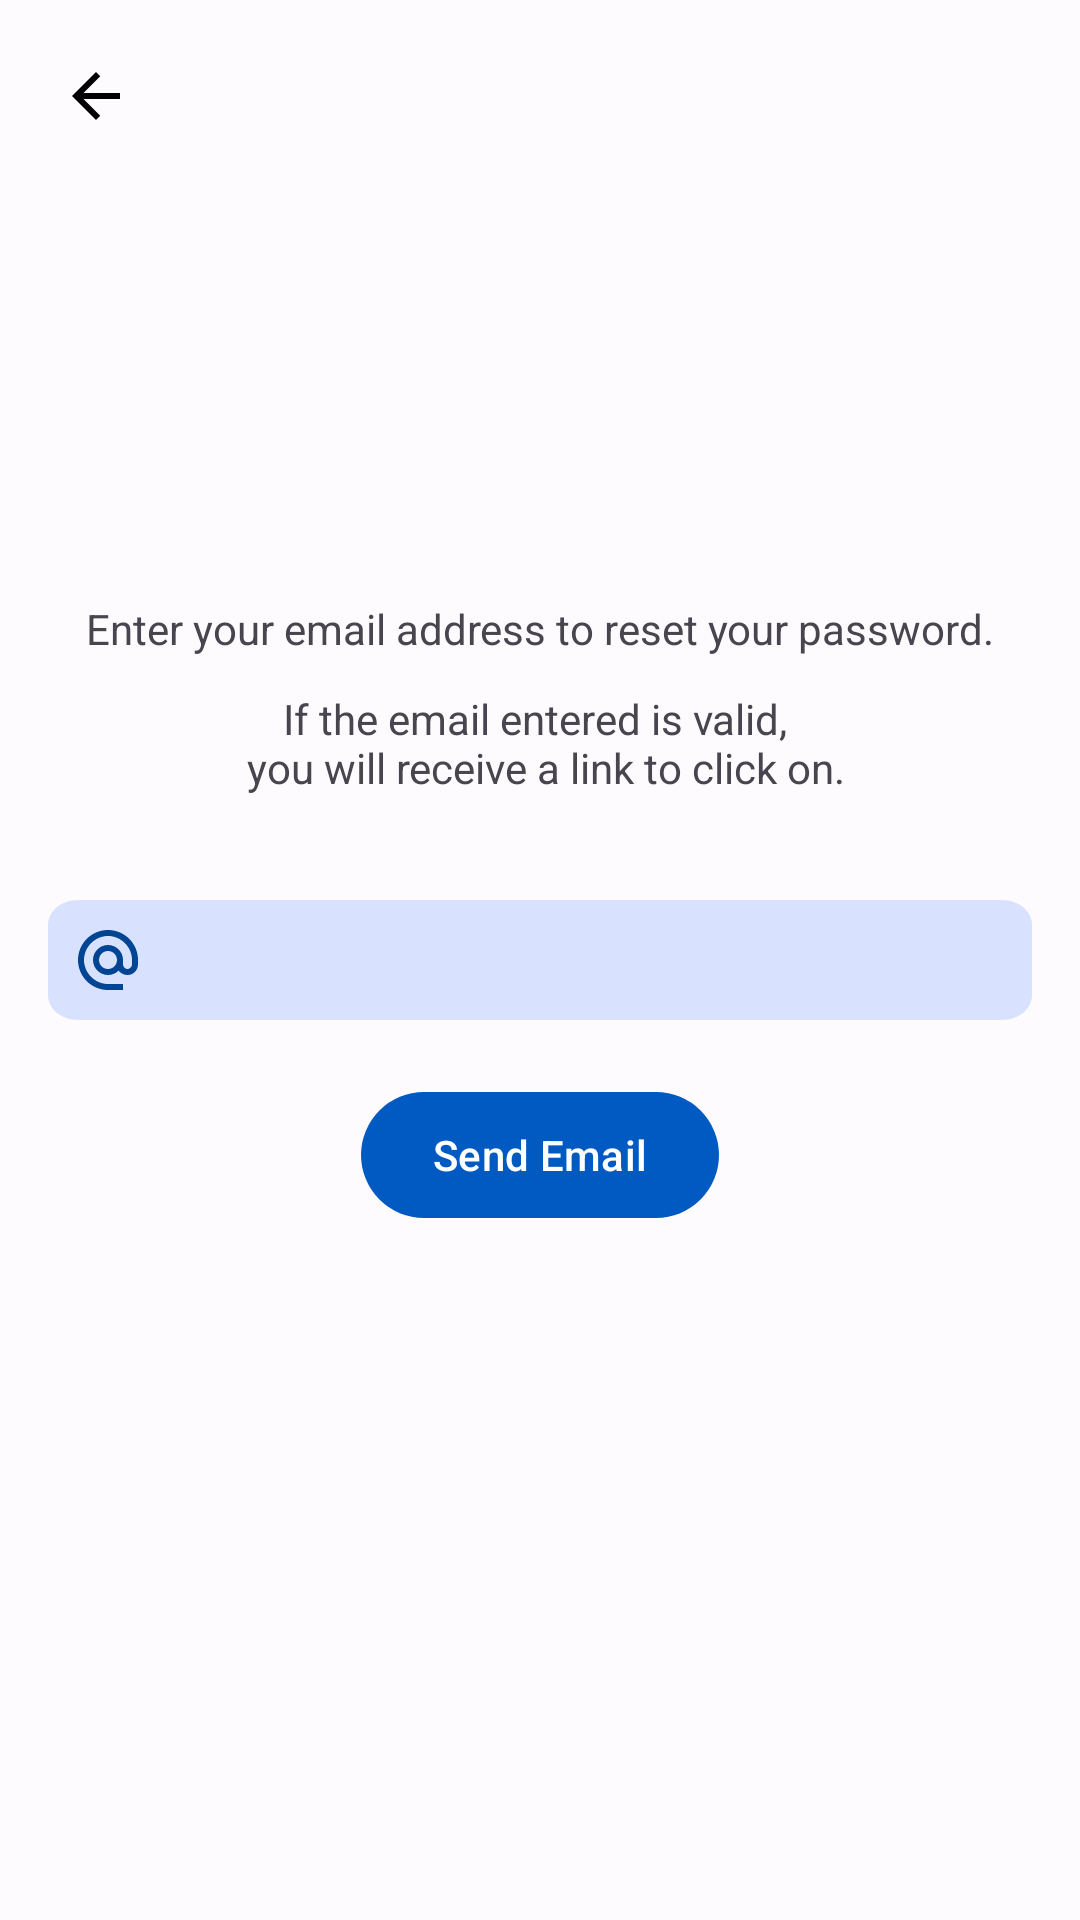

Icon click points for this 1080*1920 phone screenshot, format [x,y]:
Return button: [96,96]
